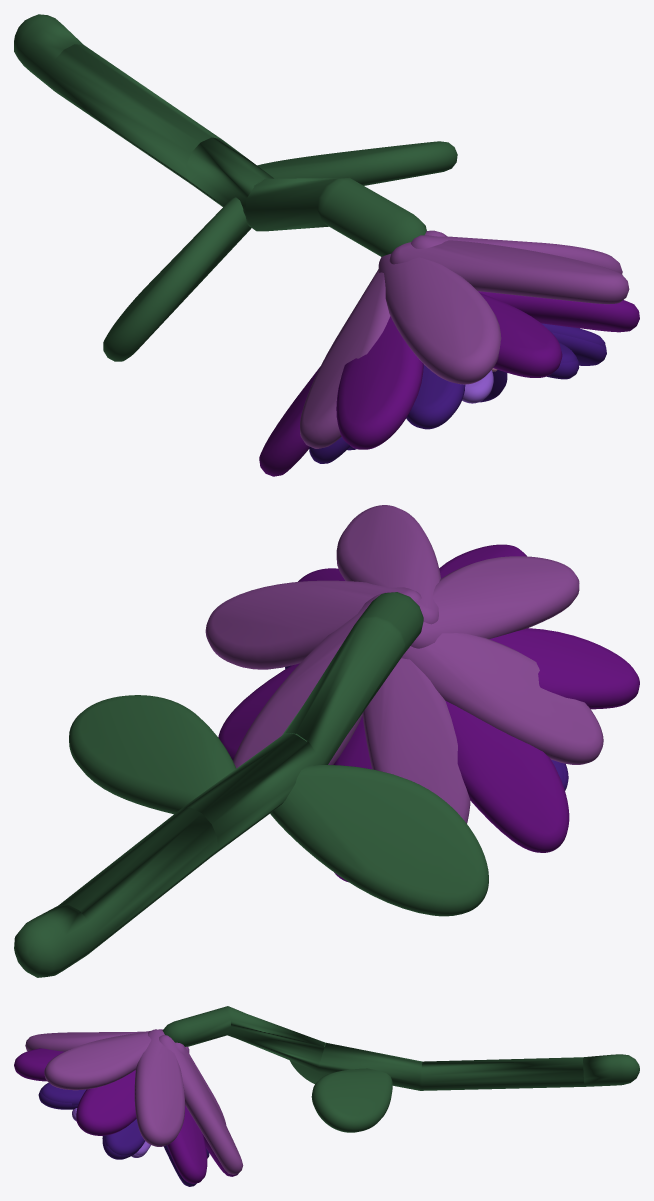
The model's file is flower.obj.obj.
3 renders of one model, top to bottom at view 1: azimuth 30°, elevation 25°; view 2: azimuth 150°, elevation 25°; view 3: azimuth 270°, elevation 25°, orthographic. The views are drawn at different scales.
Visible parts, largest first — view 1: s.0013, s.0022, s.0015, s.0026, s.0023, s.0017, s.0018; view 2: s.0013, s.0022, s.0015, s.0026, s.0023; view 3: s.0022, s.0013, s.0015, s.0023, s.0018, s.0017, s.0026.
Part boxes in pixels (x1=…): s.0013: x1=300, y1=230, x2=629, y2=448; s.0022: x1=14, y1=14, x2=426, y2=256; s.0015: x1=259, y1=291, x2=639, y2=476; s.0026: x1=103, y1=197, x2=251, y2=361; s.0023: x1=257, y1=141, x2=457, y2=185; s.0017: x1=310, y1=332, x2=606, y2=463; s.0018: x1=309, y1=323, x2=605, y2=453; s.0013: x1=205, y1=505, x2=603, y2=823; s.0022: x1=14, y1=592, x2=423, y2=977; s.0015: x1=218, y1=544, x2=639, y2=882; s.0026: x1=270, y1=764, x2=488, y2=916; s.0023: x1=69, y1=695, x2=236, y2=814; s.0022: x1=162, y1=1006, x2=639, y2=1090; s.0013: x1=25, y1=1029, x2=243, y2=1174; s.0015: x1=14, y1=1048, x2=237, y2=1183; s.0023: x1=311, y1=1068, x2=392, y2=1132; s.0018: x1=41, y1=1082, x2=209, y2=1184; s.0017: x1=38, y1=1088, x2=196, y2=1186; s.0026: x1=290, y1=1060, x2=329, y2=1083.
Bounding box in the file's own units: 12.11 × 7.65 × 26.76.
